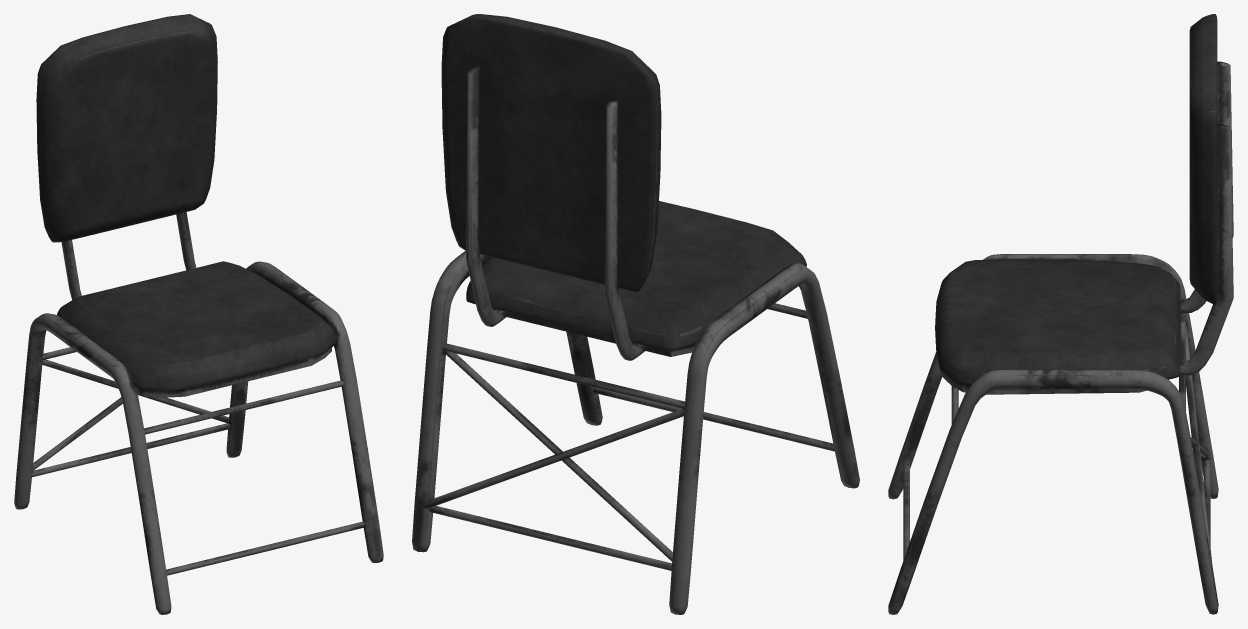
File: CadeiraDeCouro_Adm_CENA.fbx
3 views of the same model, side by side, from view 1: azimuth 30°, elevation 25°; view 2: azimuth 150°, elevation 25°; view 3: azimuth 270°, elevation 25° (orthographic). The views are drawn at different scales.
Parts seen in each view (by area): view 1: Cube.031; view 2: Cube.031; view 3: Cube.031.
Part boxes in pixels (left/top/right/bottom): Cube.031: left=14, top=14, right=383, bottom=614; Cube.031: left=412, top=14, right=859, bottom=614; Cube.031: left=888, top=14, right=1233, bottom=614.
Bounding box in the file's own units: 55.21 × 106 × 64.89.
